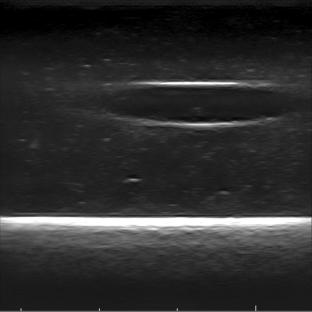vessel: (112, 81, 281, 130)
